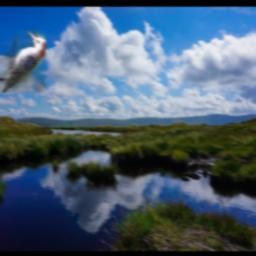Woodpecker: (0, 32, 46, 94)
